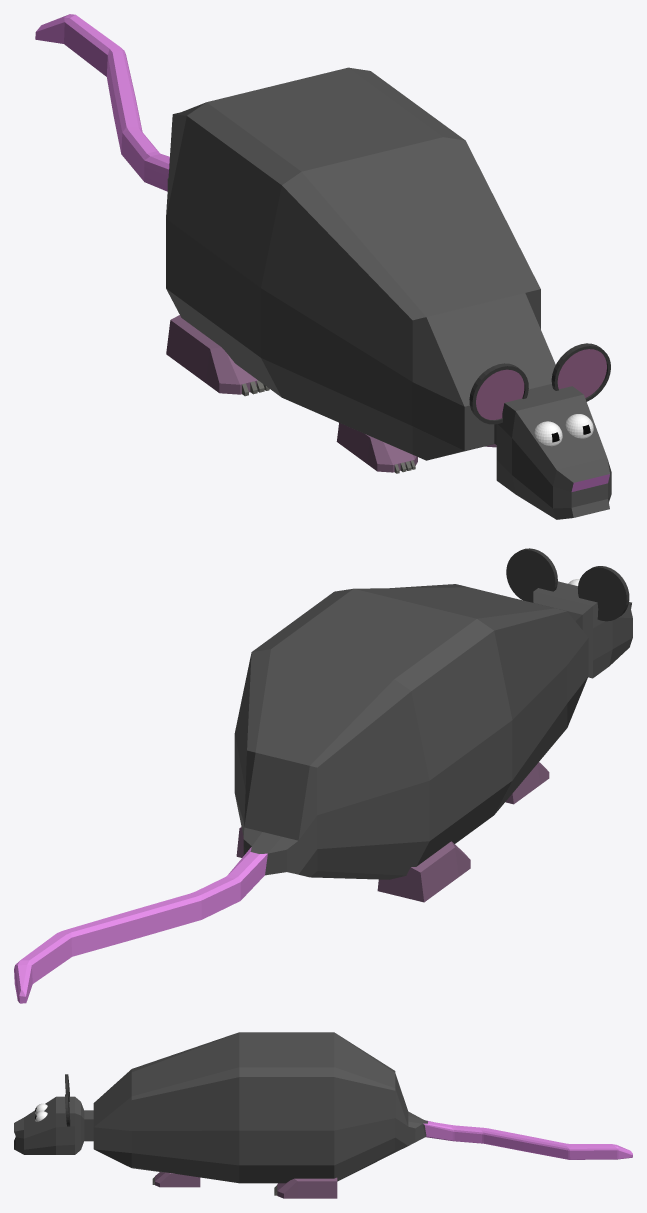
Rendered from fat_rat.fbx.
3 views of the same model, one above another, from view 1: azimuth 30°, elevation 25°; view 2: azimuth 150°, elevation 25°; view 3: azimuth 270°, elevation 25° (orthographic). The views are drawn at different scales.
Parts seen in each view (by area): view 1: Cylinder; view 2: Cylinder; view 3: Cylinder.
Boxes of the visible parts, x1,y1,x2,y2 form: Cylinder: [35, 14, 611, 519]; Cylinder: [14, 548, 632, 1003]; Cylinder: [14, 1032, 632, 1198].
Size of the model in its own units: 349 by 365 by 1672.
